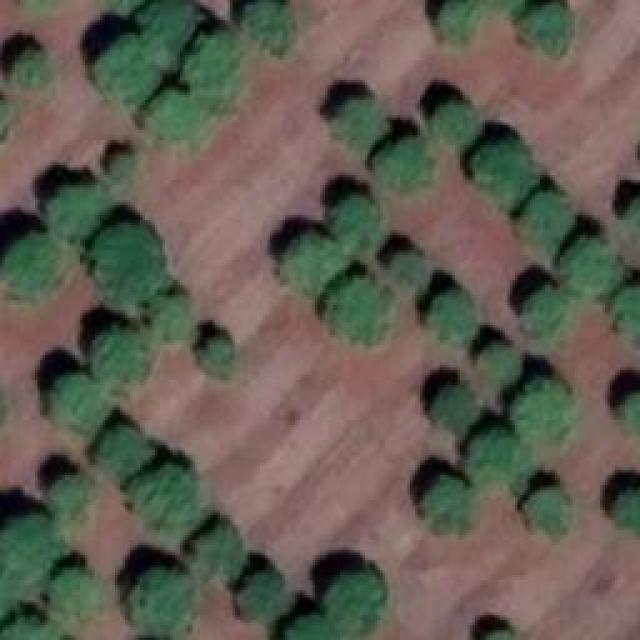Tree: (95, 225, 165, 305), (95, 35, 158, 100), (328, 278, 391, 343), (130, 463, 193, 528), (323, 573, 386, 638), (0, 515, 58, 580), (512, 378, 570, 441), (130, 565, 190, 625), (280, 238, 345, 293), (470, 143, 533, 198), (183, 38, 233, 101), (145, 0, 195, 62), (3, 235, 58, 290), (560, 238, 615, 293), (48, 185, 108, 235), (423, 475, 473, 535), (197, 523, 245, 583), (95, 325, 148, 378), (372, 137, 430, 185), (472, 432, 530, 480), (442, 0, 520, 35), (148, 90, 198, 135), (523, 193, 568, 243), (525, 3, 570, 53), (55, 373, 100, 423), (245, 0, 293, 45), (333, 195, 378, 243), (100, 428, 148, 473), (240, 570, 283, 620), (335, 98, 380, 143), (53, 565, 98, 610), (525, 488, 570, 533), (523, 288, 566, 331), (433, 385, 476, 428), (433, 293, 473, 338), (433, 102, 476, 140), (285, 612, 340, 640), (50, 473, 88, 513), (480, 340, 518, 378), (155, 295, 188, 338), (612, 488, 640, 533), (617, 389, 640, 442), (0, 617, 52, 640), (617, 287, 640, 337), (15, 55, 48, 83), (390, 255, 423, 280), (110, 153, 138, 176), (208, 337, 231, 365)
